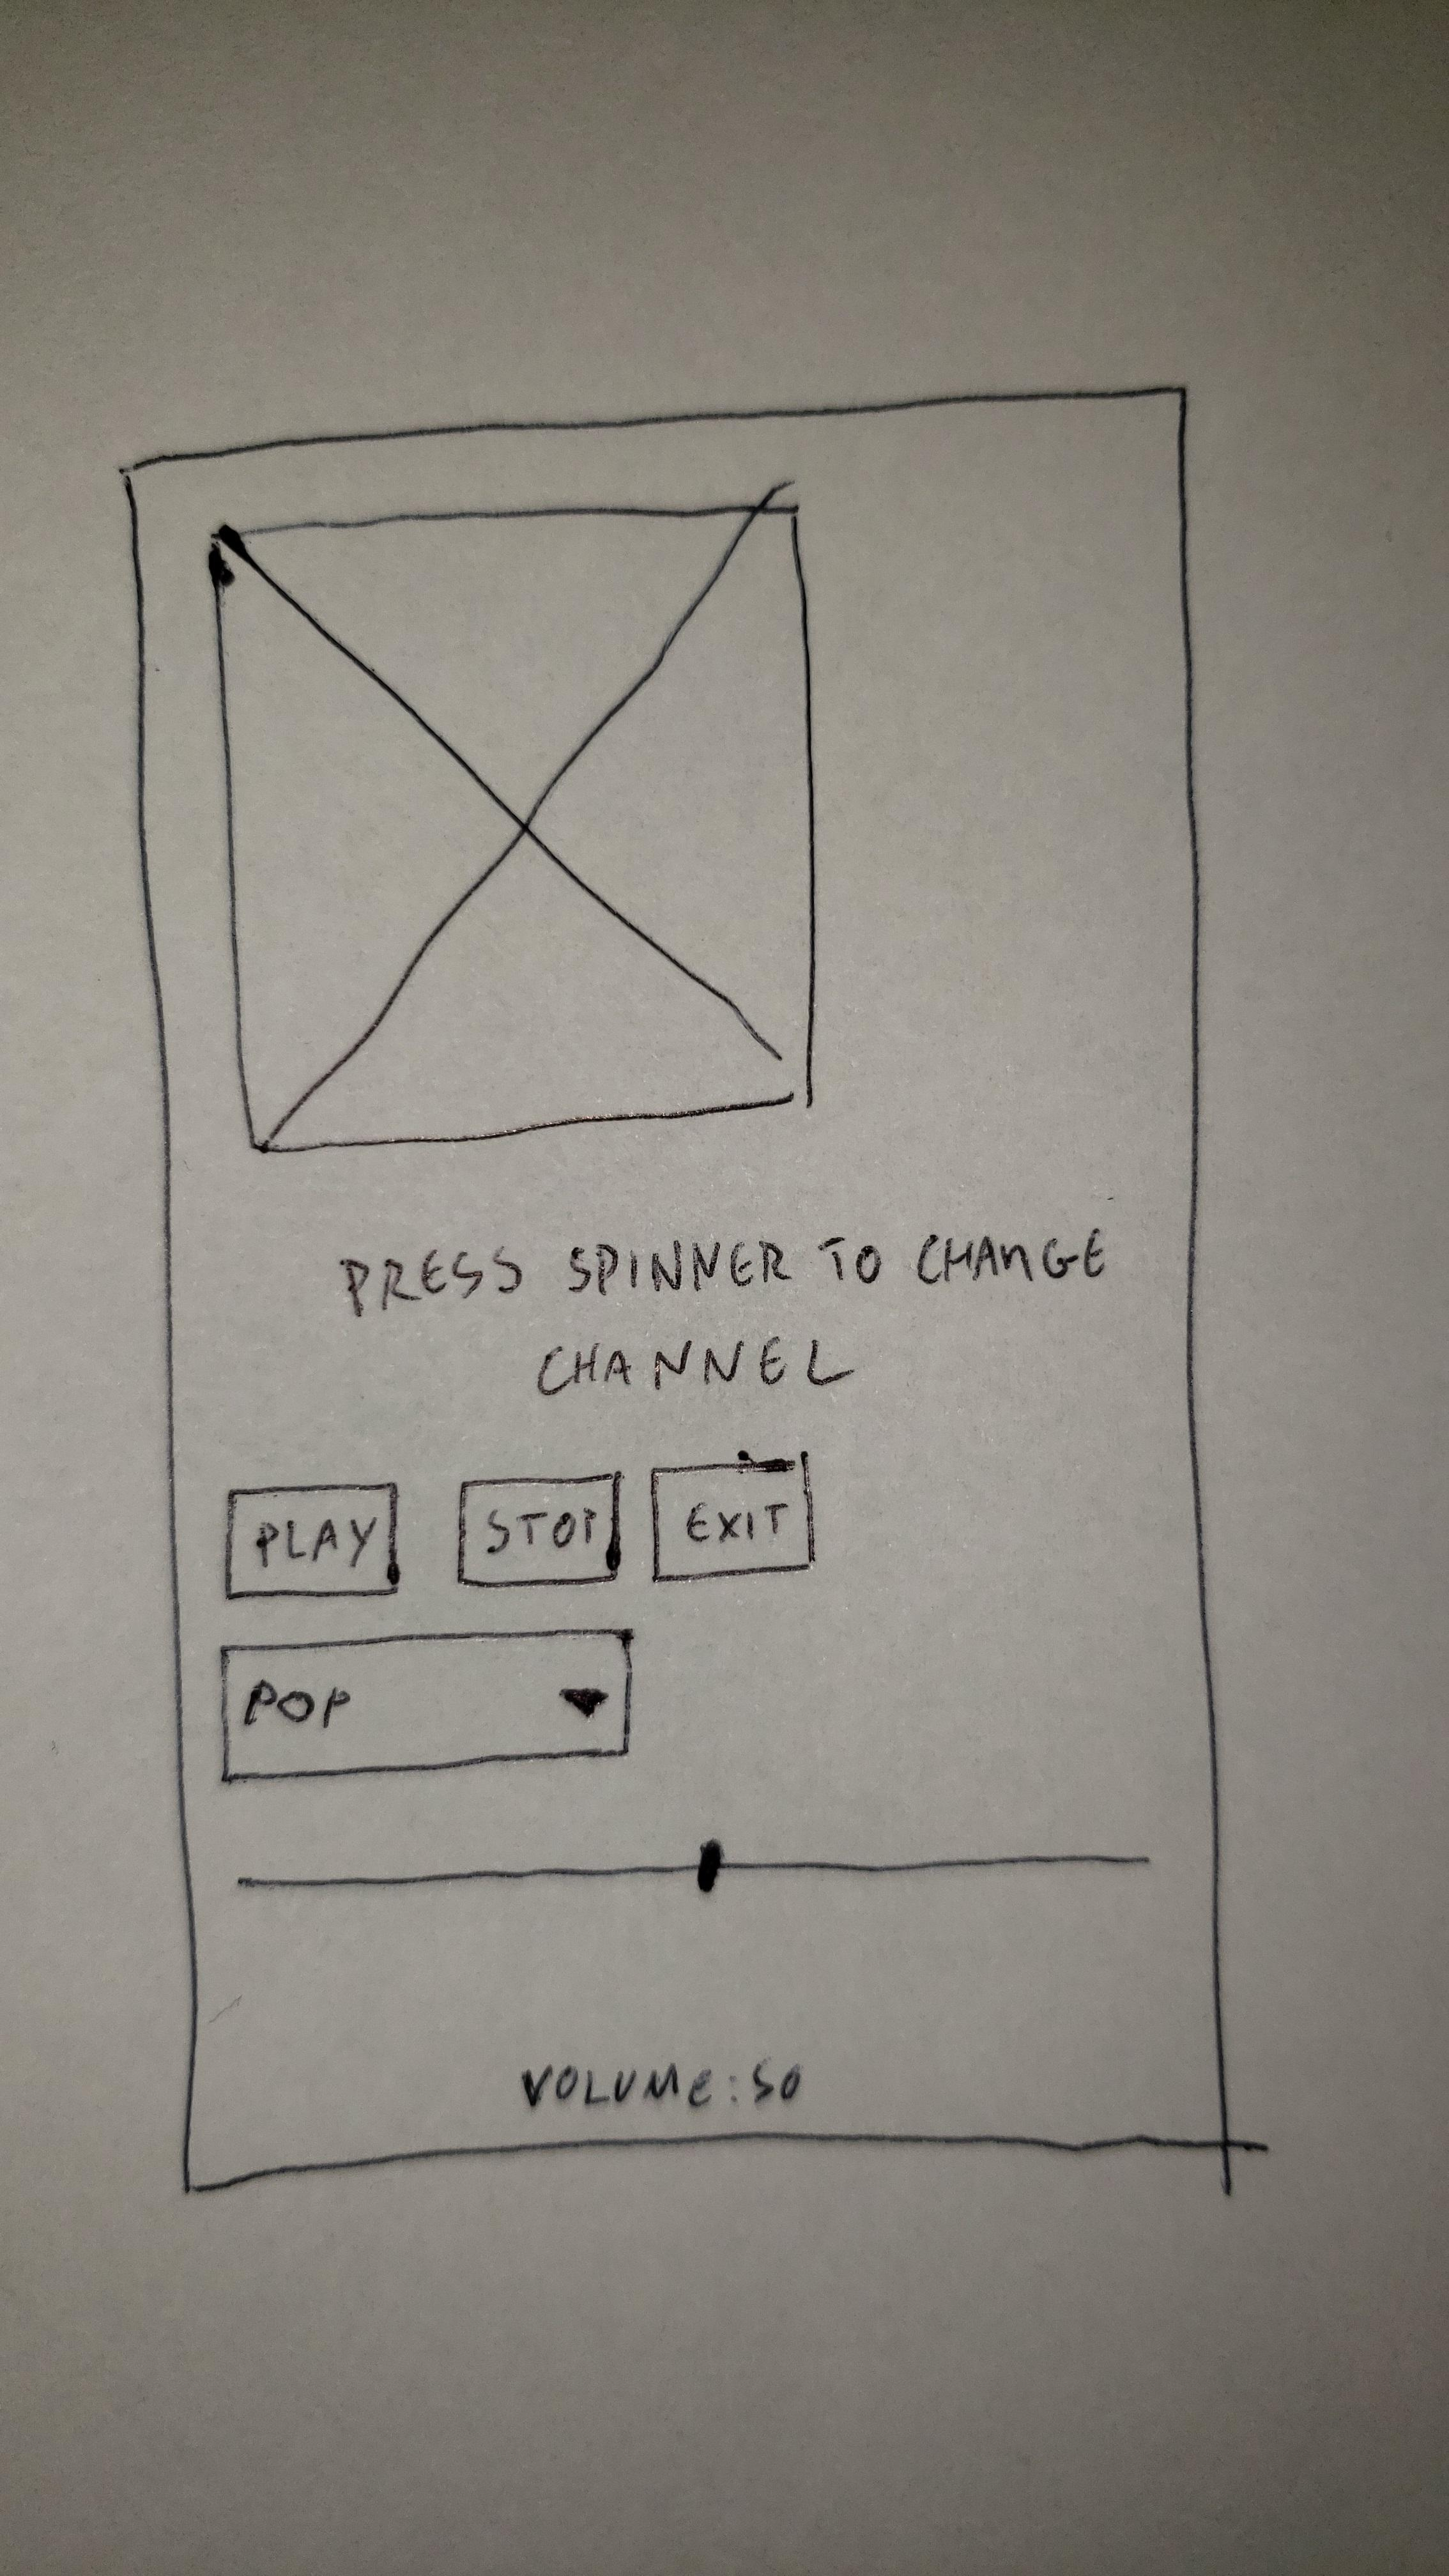Button: (225, 1479, 400, 1599), (653, 1453, 816, 1580), (456, 1474, 623, 1589)
Image: (209, 506, 821, 1155)
Label: (338, 1223, 1111, 1403), (510, 2047, 809, 2116)
ListPicker: (221, 1628, 633, 1785)
Screen: (115, 379, 1228, 2190)
Slider: (235, 1831, 1154, 1905)
